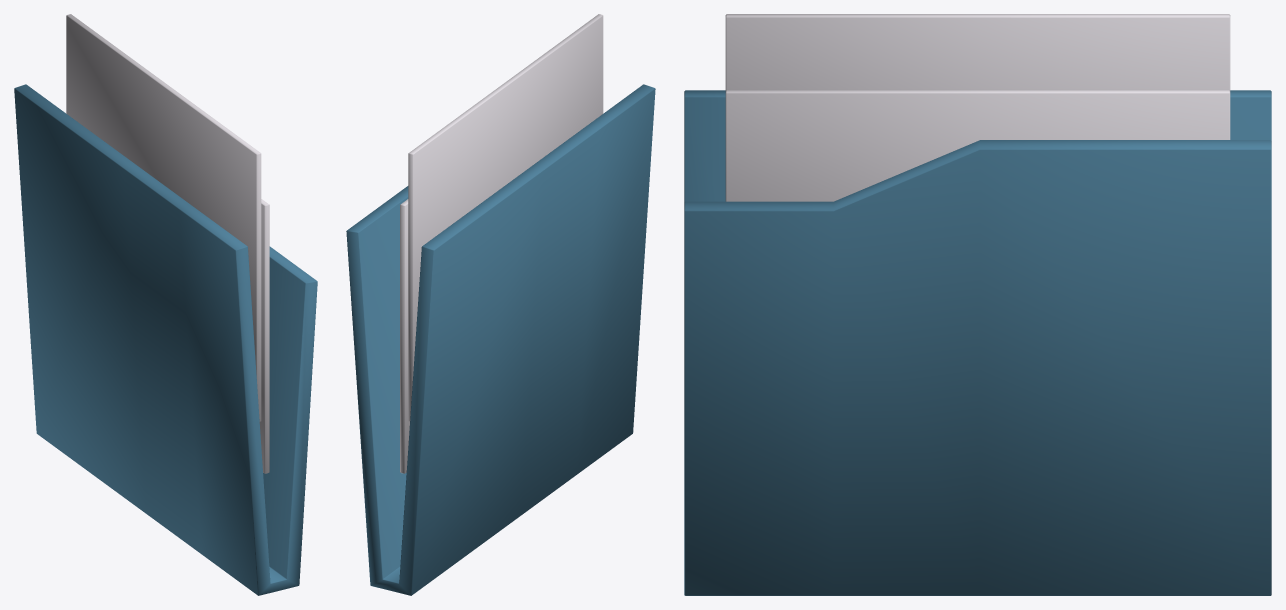
The model's file is Folder.gltf.
3 renders of one model, left to right at view 1: azimuth 30°, elevation 25°; view 2: azimuth 150°, elevation 25°; view 3: azimuth 270°, elevation 25°, orthographic. The views are drawn at different scales.
Parts seen in each view (by area): view 1: Plane.007; view 2: Plane.007; view 3: Plane.007.
Boxes of the visible parts, bbox=[...] form: Plane.007: bbox=[14, 14, 317, 595]; Plane.007: bbox=[346, 14, 655, 595]; Plane.007: bbox=[684, 14, 1271, 595].
Bounding box in the file's own units: 0.0188 × 0.0873 × 0.0821.
